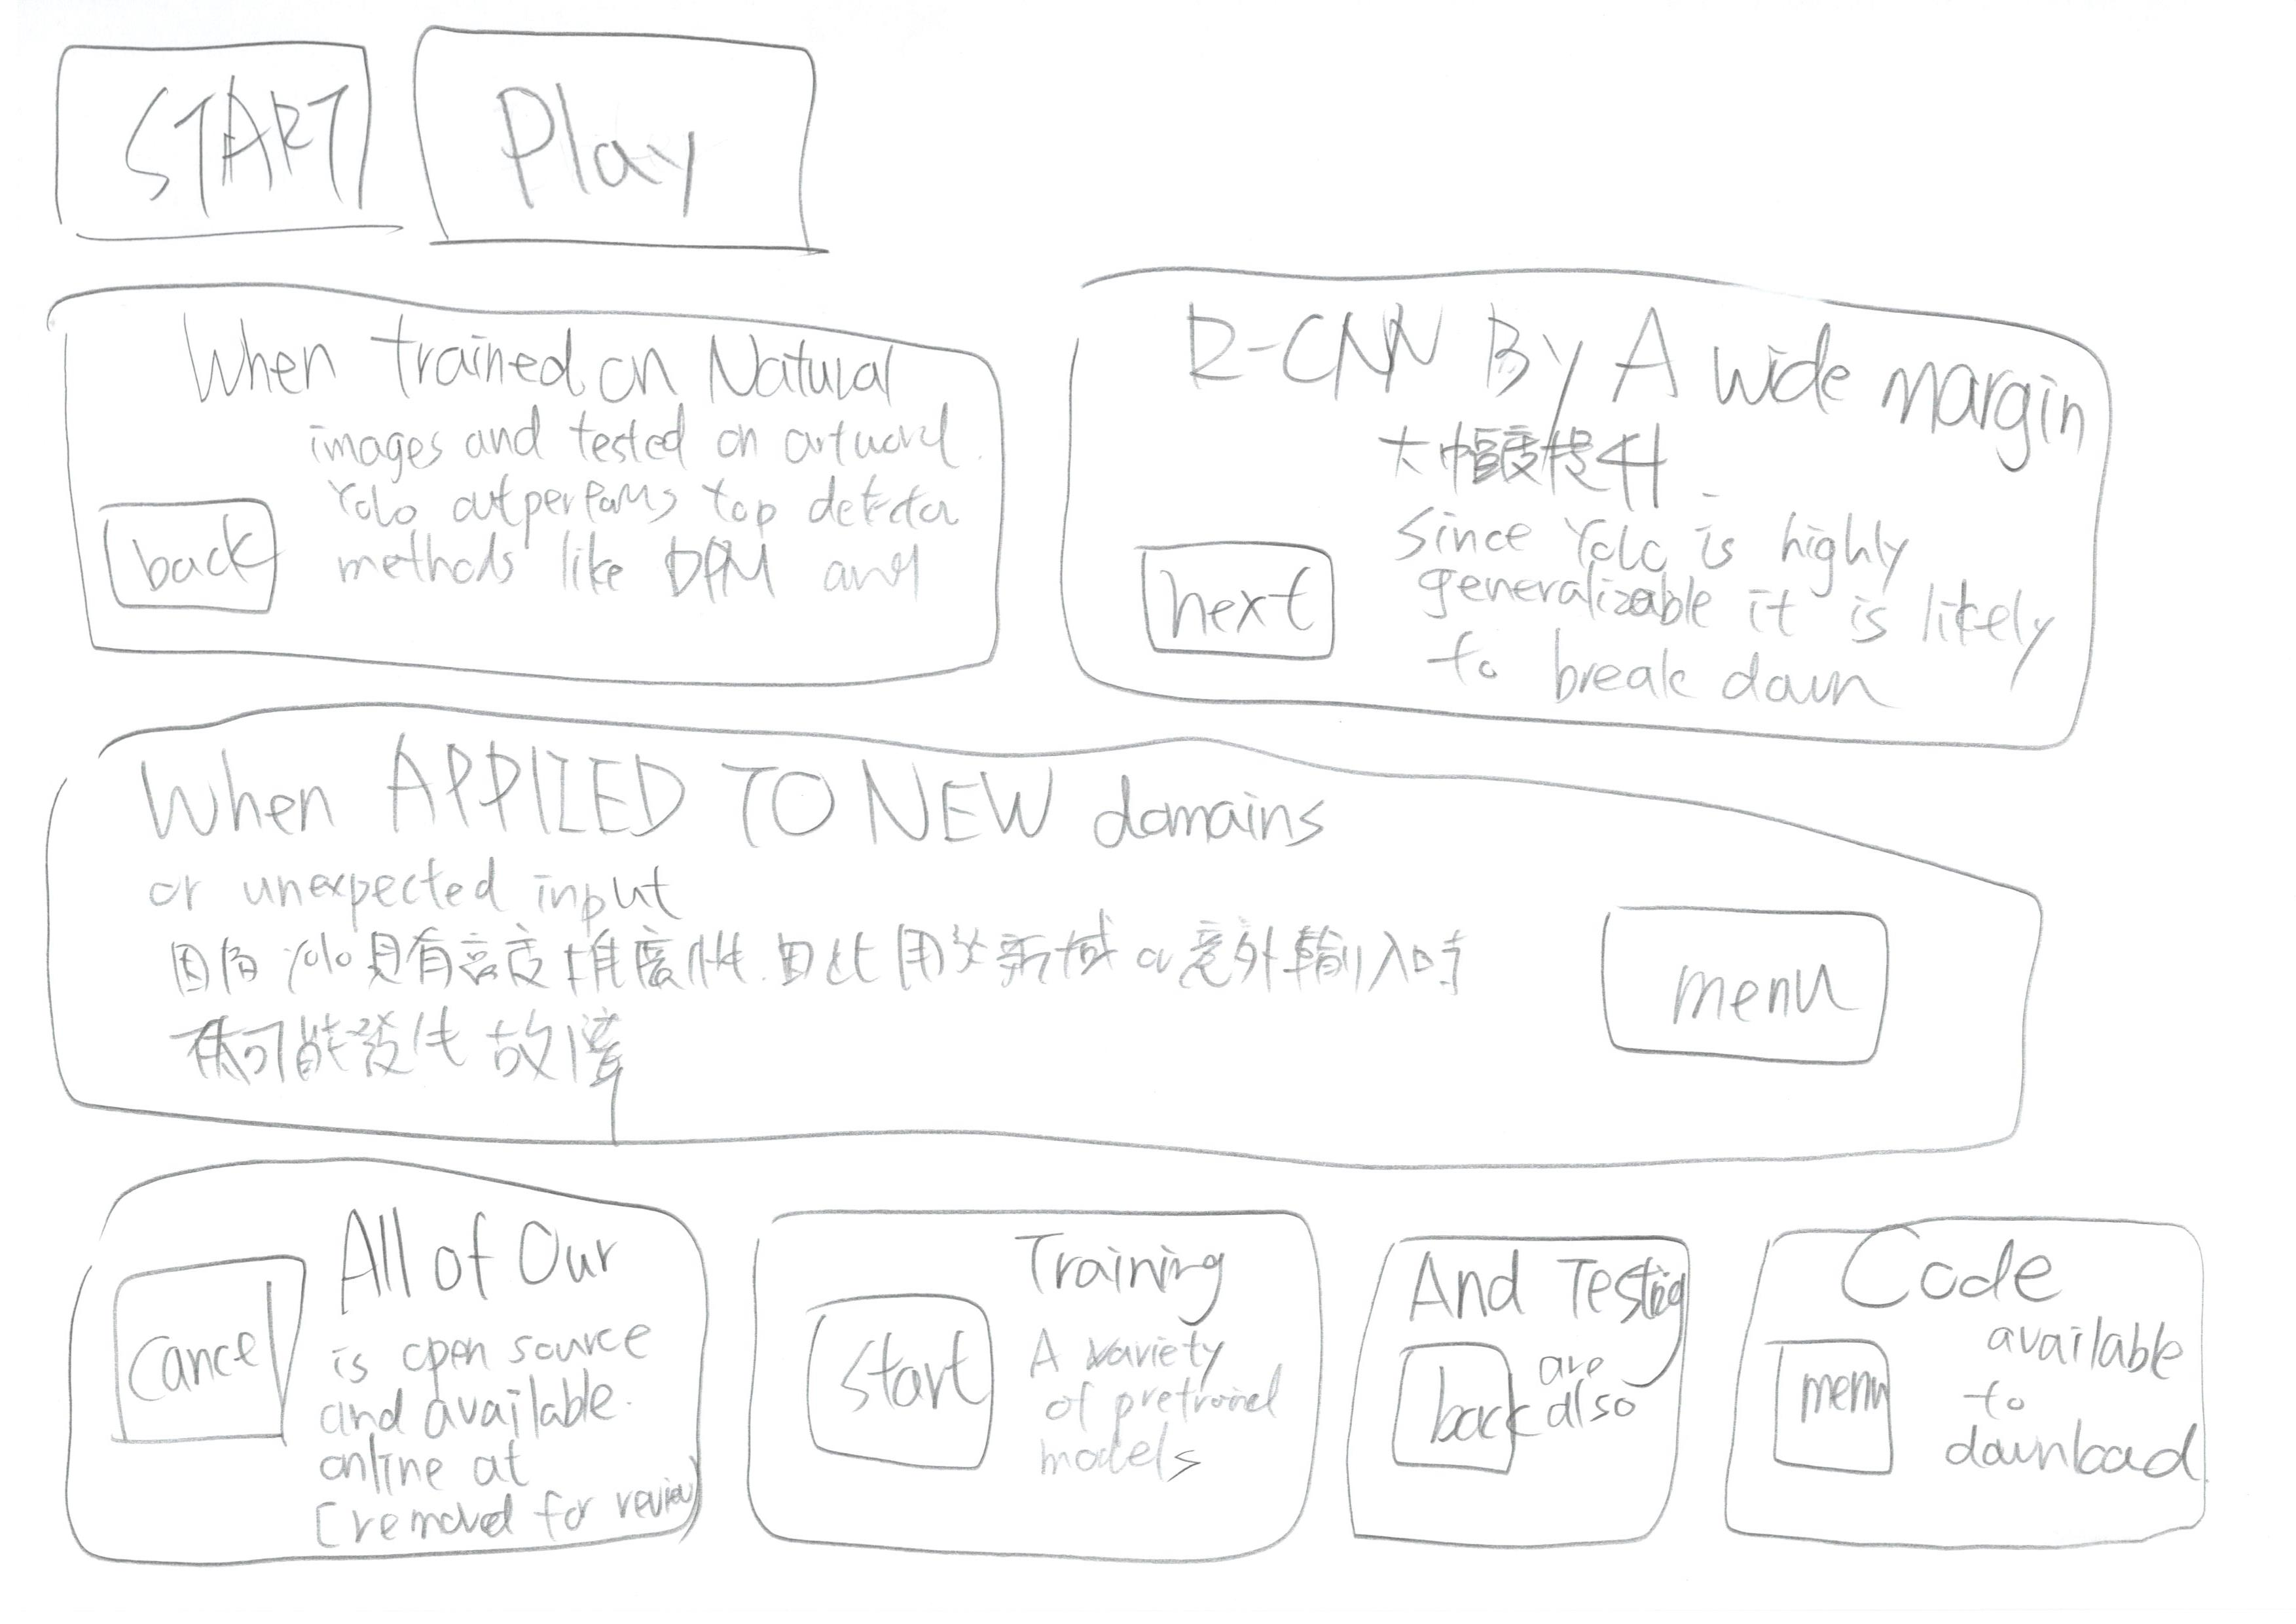back: (90, 485, 301, 634), (1373, 1330, 1531, 1497)
cancel: (93, 1237, 325, 1468)
double: (1028, 253, 2141, 754), (21, 251, 1034, 729)
menu: (1579, 865, 1918, 1088), (1760, 1322, 1918, 1501)
next: (1120, 515, 1370, 687)
play: (396, 12, 870, 272)
quadruple: (0, 1125, 730, 1624), (728, 1125, 1345, 1624), (1704, 1135, 2296, 1624), (1334, 1125, 1725, 1613)
row: (0, 239, 2296, 766), (0, 1111, 2296, 1624), (4, 680, 2289, 1148), (18, 7, 2296, 257)
single: (5, 684, 2263, 1199)
small-title: (148, 731, 1345, 859), (1171, 285, 2067, 453), (179, 286, 919, 420), (334, 1199, 638, 1313), (1851, 1222, 2124, 1334), (1415, 1239, 1688, 1329), (1023, 1227, 1252, 1322)
start: (35, 5, 410, 262), (791, 1262, 1009, 1487)
text: (148, 856, 1473, 1093), (1366, 411, 2043, 689), (304, 401, 946, 626), (306, 1318, 684, 1548), (1958, 1315, 2196, 1487), (1021, 1329, 1275, 1487), (1537, 1352, 1635, 1457)
